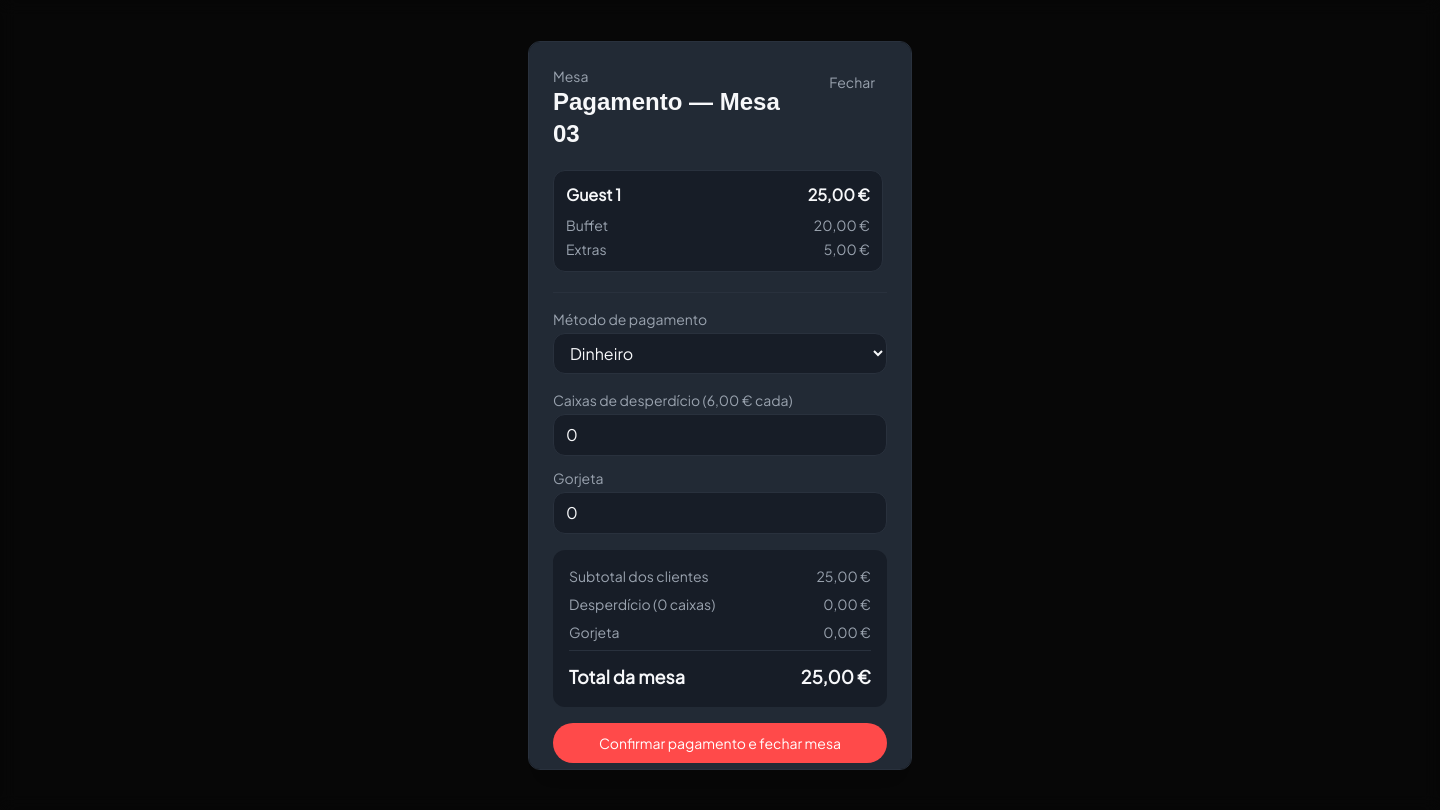
Test case: StaffPaymentModal › renders the bill and calculates waste and tip totals
Check: the heading "Pagamento — Mesa 03" is shown, box [553,86,801,150]
Check: the text "Guest 1" is shown, box [566,182,621,206]
Replace the text in the number field labelled "Caixas de desperdício (6,00 € cada)" with "2" at (720, 434), box [553,414,887,456]
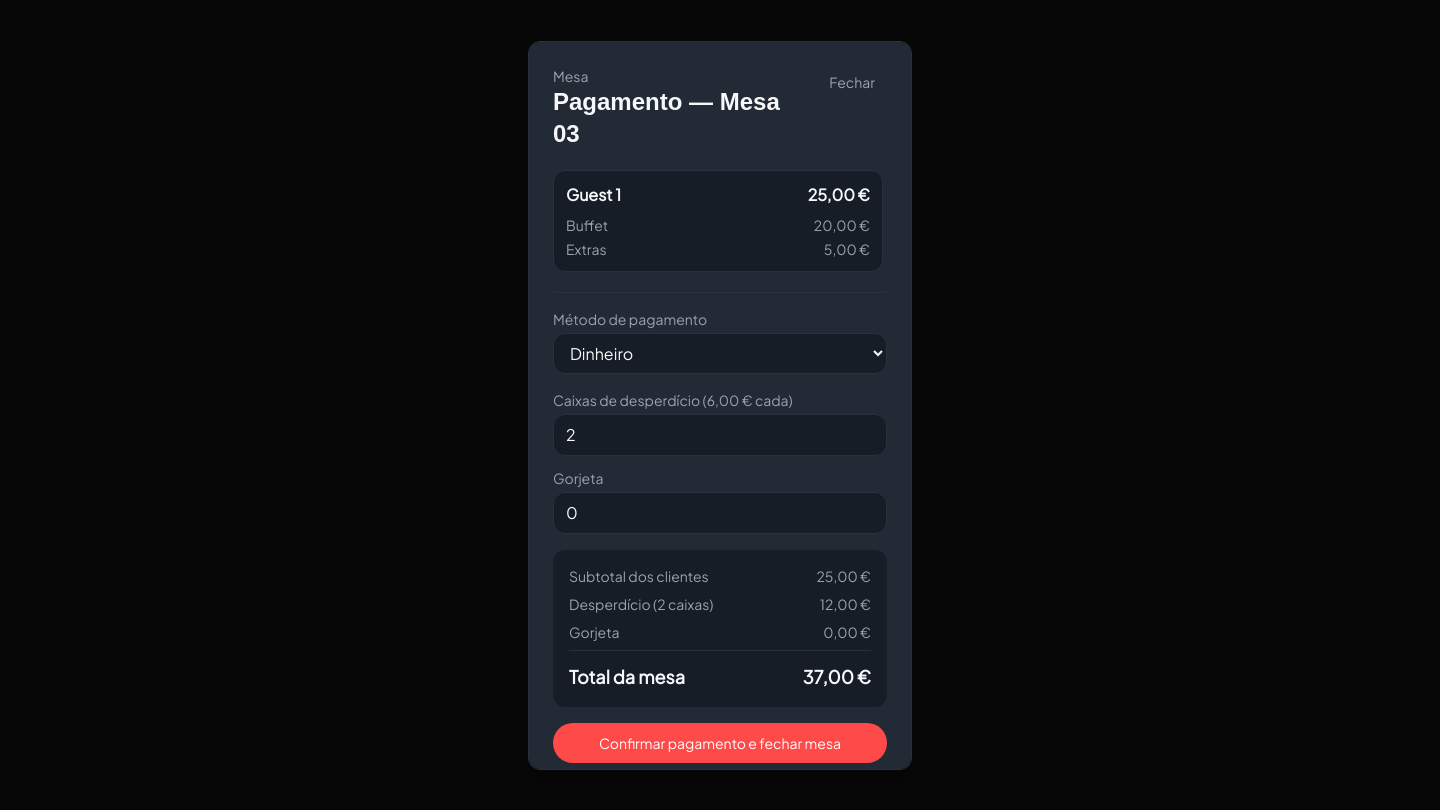
Replace the text in the number field labelled "Gorjeta" with "3.5" at (720, 512), box [553,492,887,534]
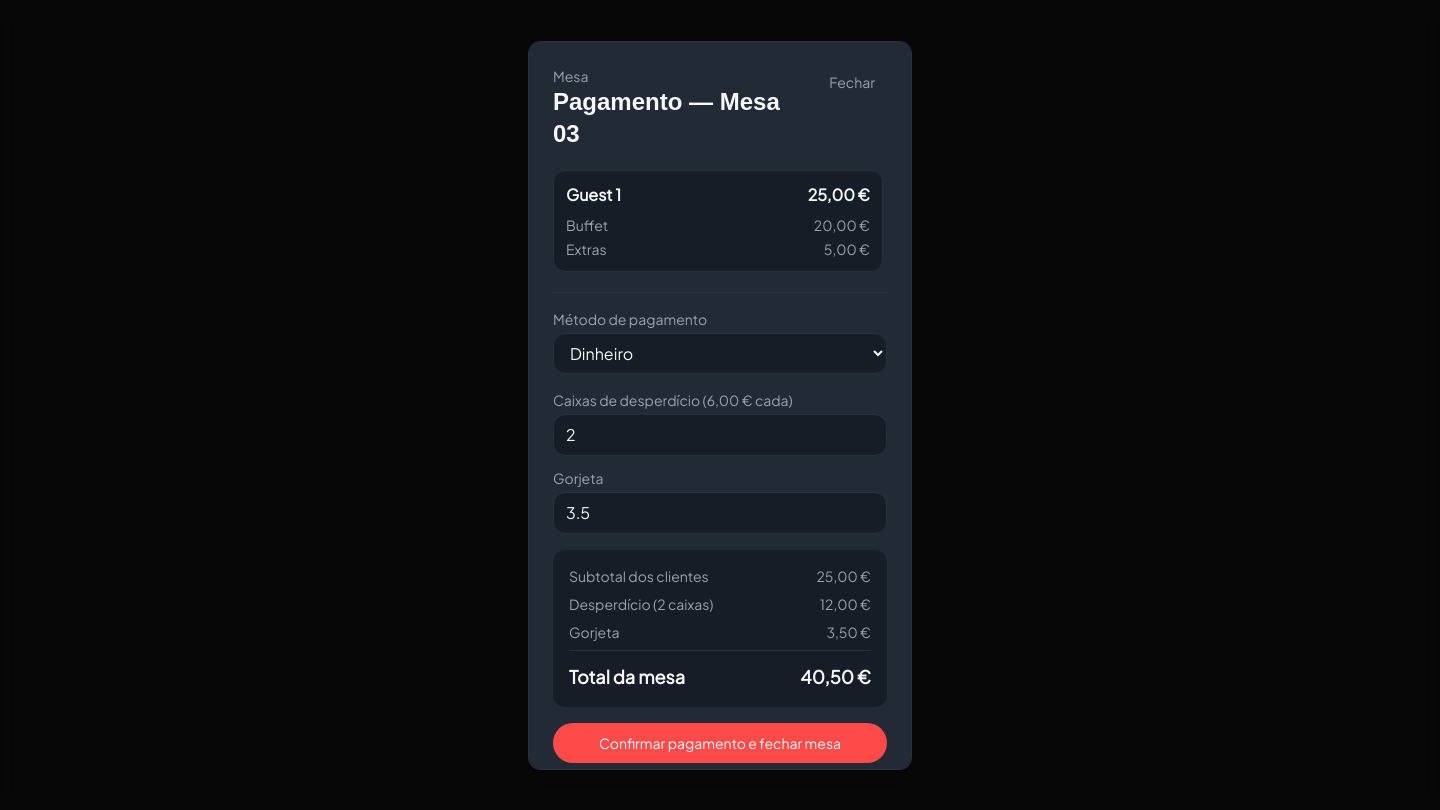
Check: the text "40,50 €" is shown, box [800,662,871,690]
